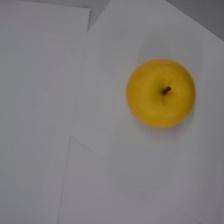yellow: (125, 57, 196, 128)
